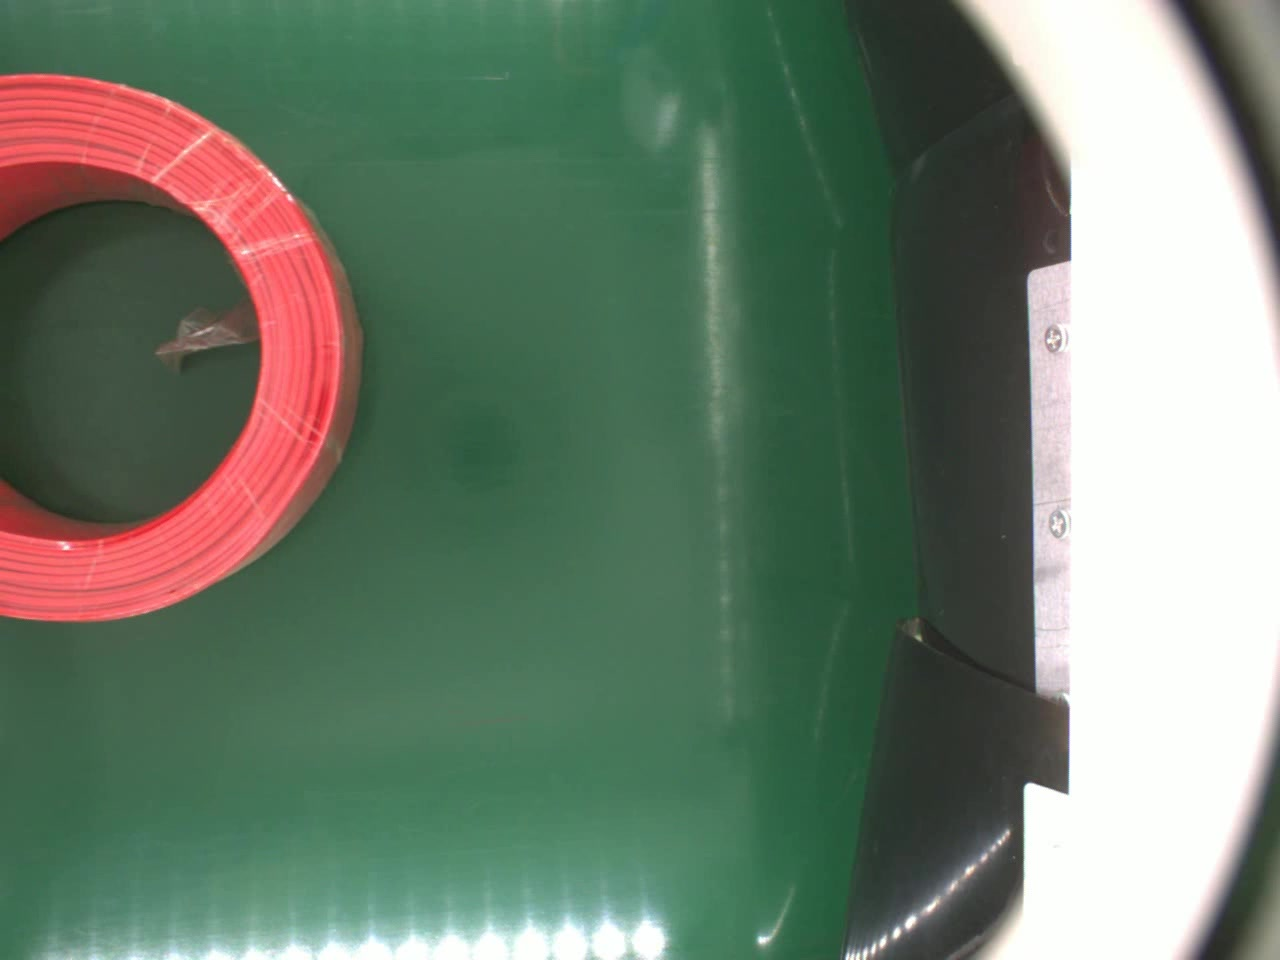red: (0, 69, 364, 620)
